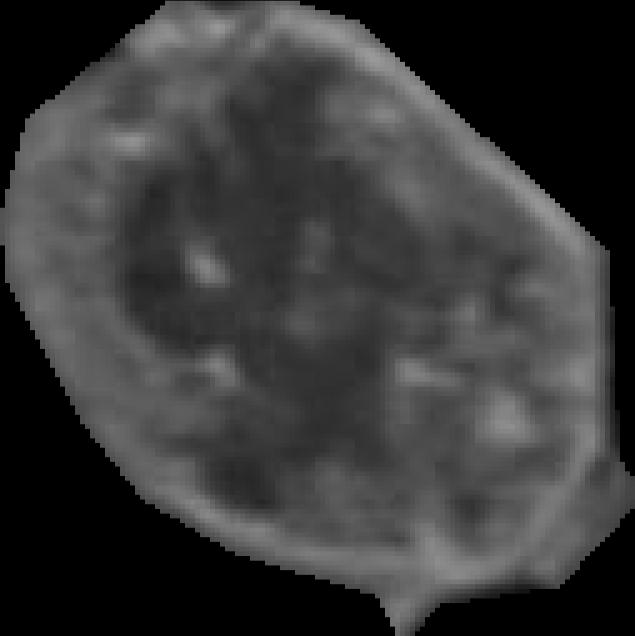tumor_less_chance: (0, 1, 635, 636)
